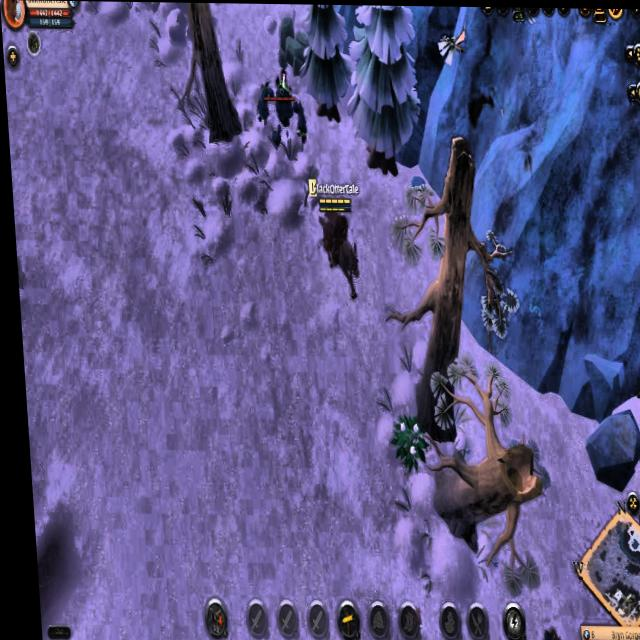sandstone: (274, 12, 311, 73)
